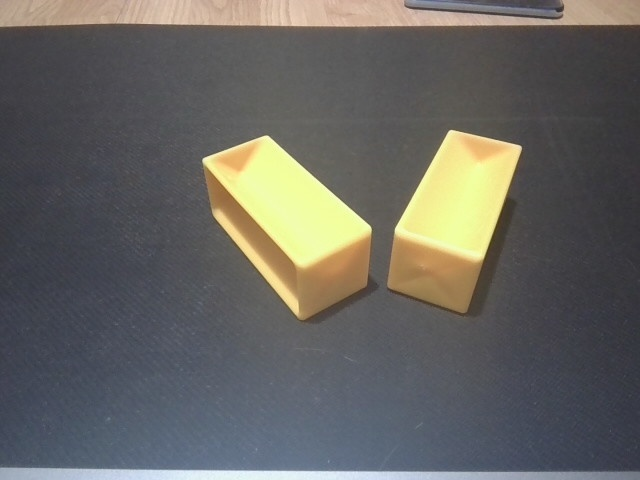YellowSample: (197, 131, 375, 325), (384, 126, 524, 318)
